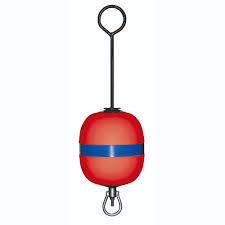buoy: (78, 110, 144, 186)
